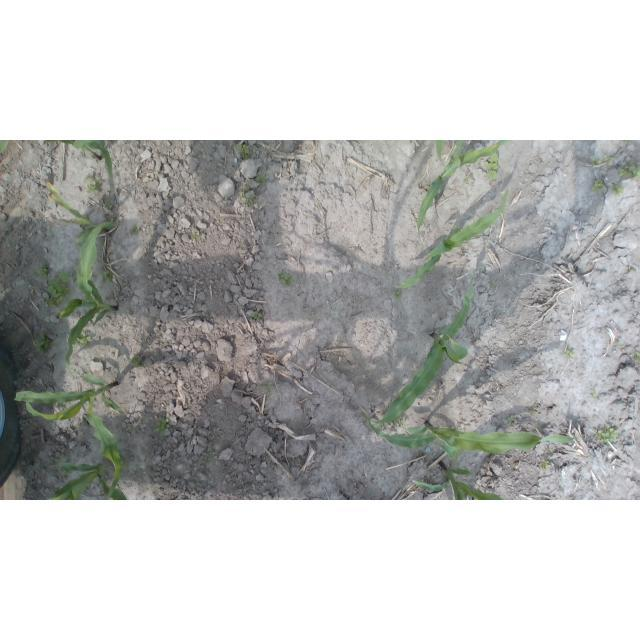Maize: (362, 270, 476, 424), (15, 373, 126, 500), (393, 187, 510, 288), (360, 411, 582, 461), (58, 221, 120, 372), (416, 141, 512, 232), (44, 181, 112, 260), (0, 141, 114, 181), (411, 460, 505, 501), (43, 461, 128, 500)
Weeds: (47, 271, 70, 307), (243, 175, 264, 205), (487, 151, 499, 180), (599, 429, 620, 444), (619, 165, 640, 178), (74, 331, 91, 346), (86, 176, 100, 193), (35, 337, 48, 353), (157, 420, 170, 436), (280, 272, 295, 285), (132, 357, 146, 368), (596, 157, 612, 166), (242, 144, 251, 159), (594, 182, 605, 193), (37, 264, 47, 276), (104, 270, 111, 284), (265, 383, 272, 397), (614, 186, 622, 195), (635, 353, 640, 364), (252, 312, 261, 318), (542, 461, 549, 468), (615, 341, 621, 348), (193, 232, 199, 238), (395, 292, 400, 299), (569, 351, 574, 357), (592, 392, 596, 396)
